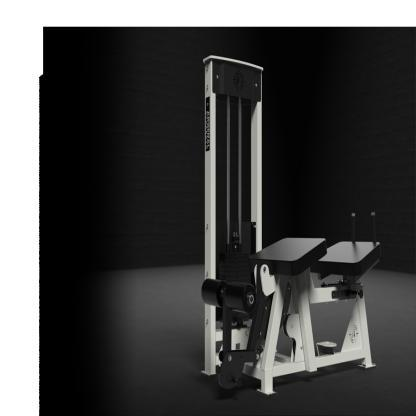reg curl machine: (196, 54, 393, 409)
